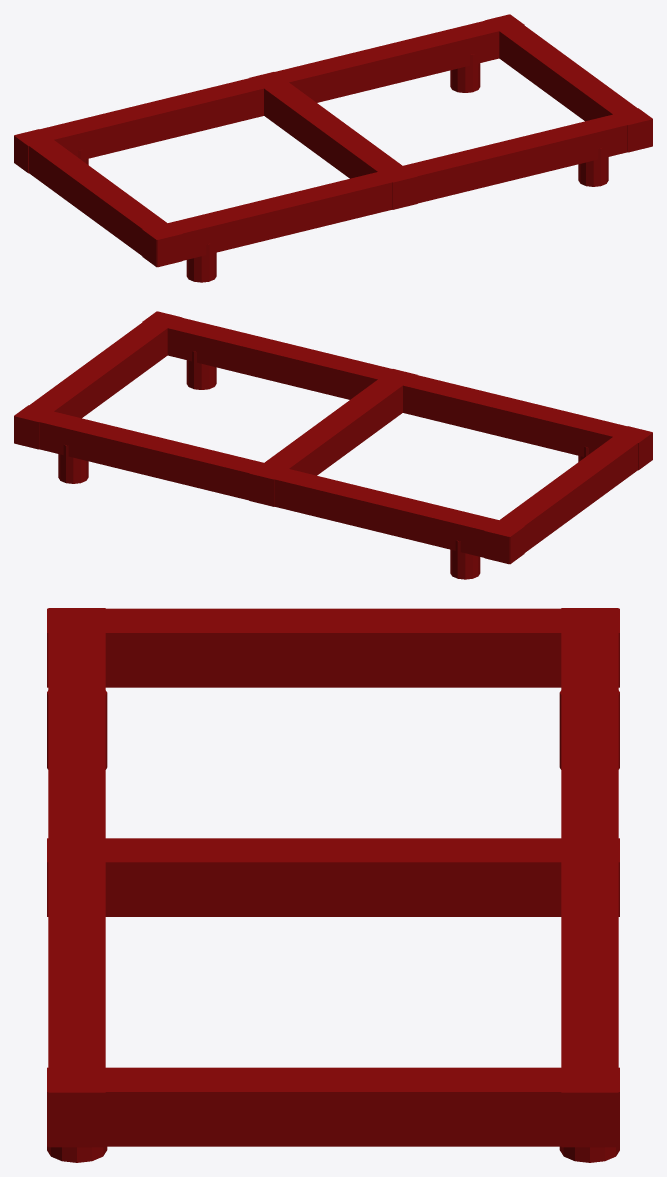
Rendered from boat_lift_base.dae.
3 renders of one model, top to bottom at view 1: azimuth 30°, elevation 25°; view 2: azimuth 150°, elevation 25°; view 3: azimuth 270°, elevation 25°, orthographic. The views are drawn at different scales.
Parts seen in each view (by area): view 1: BASE_LONG_A, BASE_LONG_B, BASE_CROSS_FRONT, BASE_CROSS_REAR, BASE_CROSS_MID, WHEEL_-3.0_-1.7, WHEEL_3.0_-1.7, WHEEL_3.0_1.7; view 2: BASE_LONG_B, BASE_LONG_A, BASE_CROSS_FRONT, BASE_CROSS_REAR, BASE_CROSS_MID, WHEEL_-3.0_1.7, WHEEL_3.0_1.7, WHEEL_3.0_-1.7; view 3: BASE_CROSS_FRONT, BASE_CROSS_MID, BASE_CROSS_REAR, BASE_LONG_B, BASE_LONG_A, WHEEL_3.0_-1.7, WHEEL_3.0_1.7.
Boxes of the visible parts, bbox=[...] form: BASE_LONG_A: bbox=[142, 108, 652, 267]; BASE_LONG_B: bbox=[14, 14, 524, 173]; BASE_CROSS_FRONT: bbox=[14, 129, 182, 267]; BASE_CROSS_REAR: bbox=[485, 14, 652, 152]; BASE_CROSS_MID: bbox=[249, 72, 417, 209]; WHEEL_-3.0_-1.7: bbox=[186, 243, 216, 282]; WHEEL_3.0_-1.7: bbox=[578, 148, 608, 186]; WHEEL_3.0_1.7: bbox=[450, 54, 480, 92]; BASE_LONG_B: bbox=[14, 405, 524, 564]; BASE_LONG_A: bbox=[142, 311, 652, 470]; BASE_CROSS_FRONT: bbox=[484, 426, 652, 564]; BASE_CROSS_REAR: bbox=[14, 311, 181, 449]; BASE_CROSS_MID: bbox=[249, 369, 417, 506]; WHEEL_-3.0_1.7: bbox=[450, 540, 480, 579]; WHEEL_3.0_1.7: bbox=[58, 445, 88, 483]; WHEEL_3.0_-1.7: bbox=[186, 351, 216, 389]; BASE_CROSS_FRONT: bbox=[47, 608, 619, 687]; BASE_CROSS_MID: bbox=[47, 838, 619, 916]; BASE_CROSS_REAR: bbox=[47, 1067, 619, 1146]; BASE_LONG_B: bbox=[561, 608, 618, 1147]; BASE_LONG_A: bbox=[48, 608, 105, 1147]; WHEEL_3.0_-1.7: bbox=[47, 1146, 107, 1162]; WHEEL_3.0_1.7: bbox=[559, 1146, 619, 1162].
Bounding box in the file's own units: 7.6 × 3.8 × 0.795.
